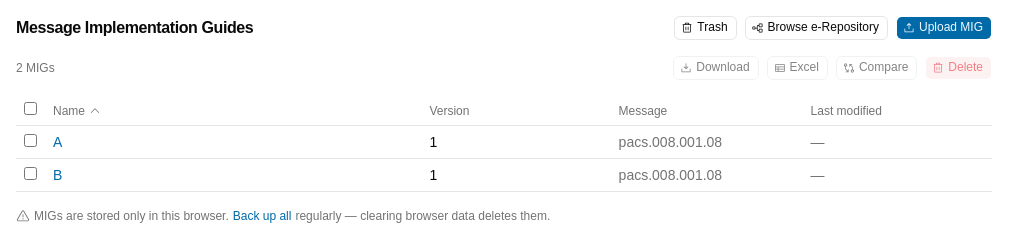
Scenario: MigHome › select-all toggles every row
Check: the table is shown, box [16,96,992,192]
What coordinates should you click on to do the following:
click the checkbox named "Select all"
I would click on:
 (30, 108)
Its box is [24,102,37,115].
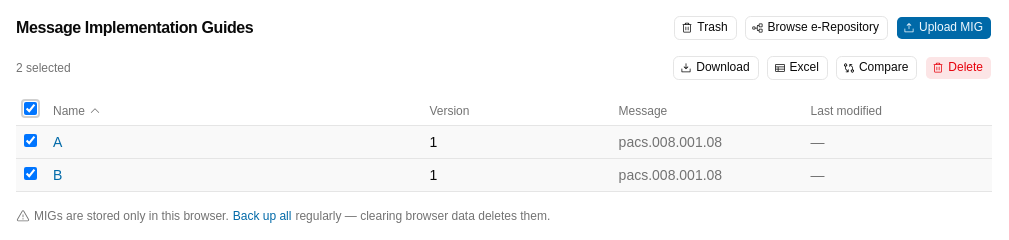
Check: the text "2 selected" is shown, box [16,60,71,76]
